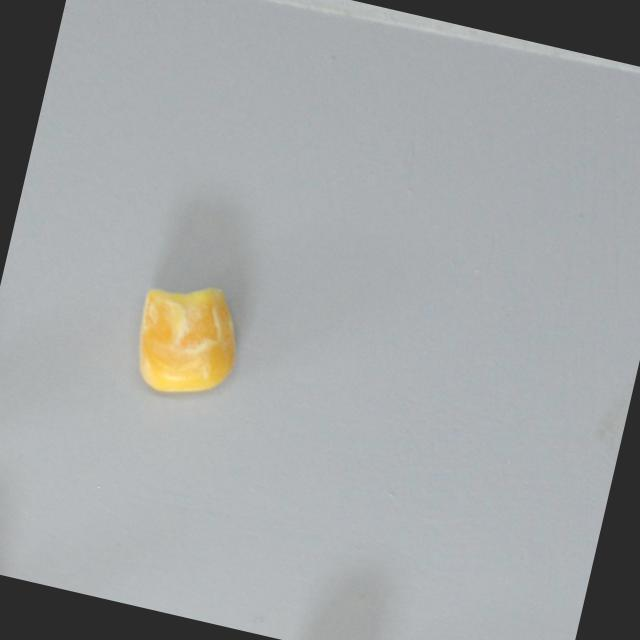pelicula: (124, 268, 254, 406)
